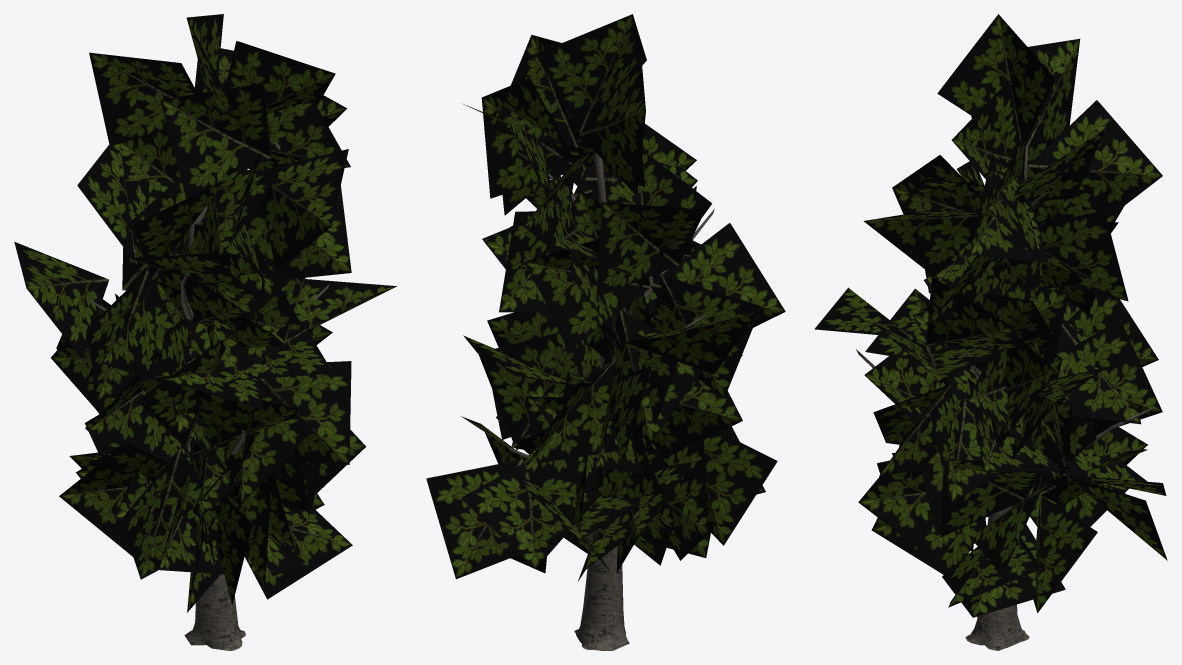
The model's file is tree_5.glb.
The picture shows the model from 3 angles, left to right: view 1: azimuth 30°, elevation 25°; view 2: azimuth 150°, elevation 25°; view 3: azimuth 270°, elevation 25°; orthographic projection. The views are drawn at different scales.
Parts seen in each view (by area): view 1: tree_5_leaves, tree_5; view 2: tree_5_leaves, tree_5; view 3: tree_5_leaves, tree_5.
Boxes of the visible parts, bbox=[...] form: tree_5_leaves: bbox=[14, 14, 396, 612]; tree_5: bbox=[87, 205, 329, 650]; tree_5_leaves: bbox=[426, 14, 785, 581]; tree_5: bbox=[506, 150, 714, 650]; tree_5_leaves: bbox=[814, 14, 1167, 617]; tree_5: bbox=[856, 145, 1154, 650].
Bounding box in the file's own units: 3.72 × 6.91 × 3.63.
2 materials, 2 textured.
